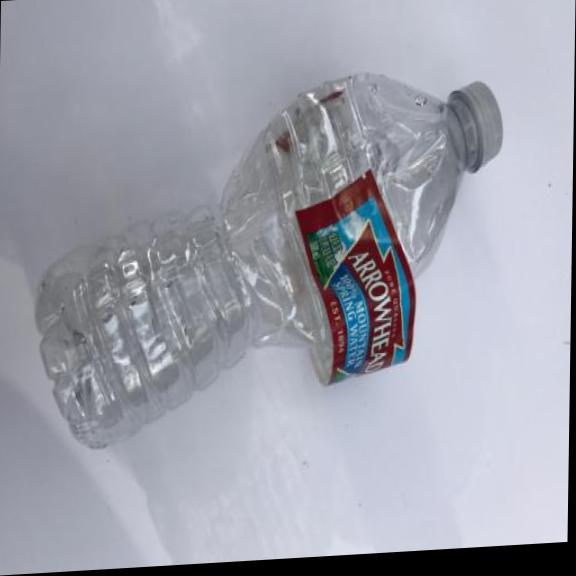Plastik: (29, 47, 508, 467)
